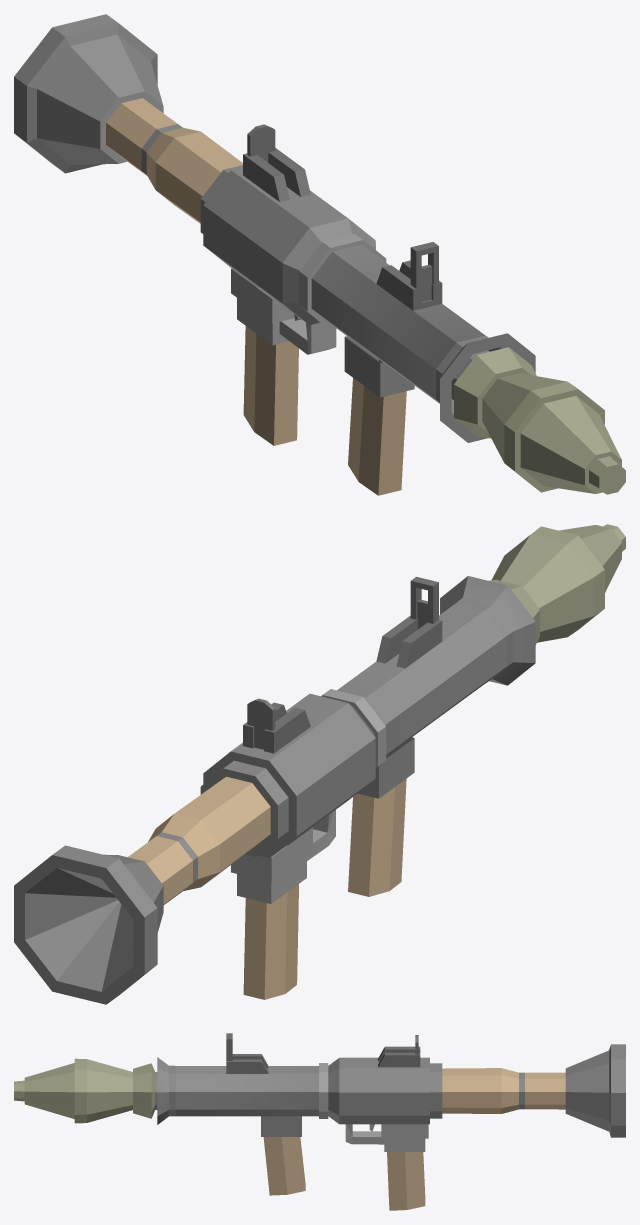
The model's file is RocketBazooka.fbx.
The picture shows the model from 3 angles, top to bottom: view 1: azimuth 30°, elevation 25°; view 2: azimuth 150°, elevation 25°; view 3: azimuth 270°, elevation 25°; orthographic projection. The views are drawn at different scales.
Visible parts, largest first — view 1: rocketlauncher, rocketlauncher_rocket; view 2: rocketlauncher, rocketlauncher_rocket; view 3: rocketlauncher, rocketlauncher_rocket.
Boxes of the visible parts, x1,y1,x2,y2 form: rocketlauncher: (14,14,535,495); rocketlauncher_rocket: (451,347,625,494); rocketlauncher: (14,576,535,1004); rocketlauncher_rocket: (489,524,625,644); rocketlauncher: (157,1033,625,1210); rocketlauncher_rocket: (14,1058,157,1123).
Size of the model in its own units: 25.34 by 55.46 by 179.
